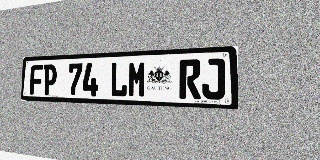4: (82, 63, 99, 96)
7: (67, 63, 83, 96)
F: (30, 65, 43, 95)
J: (202, 58, 225, 100)
L: (110, 62, 128, 97)
M: (128, 61, 147, 98)
P: (43, 64, 57, 95)
R: (179, 59, 201, 99)
